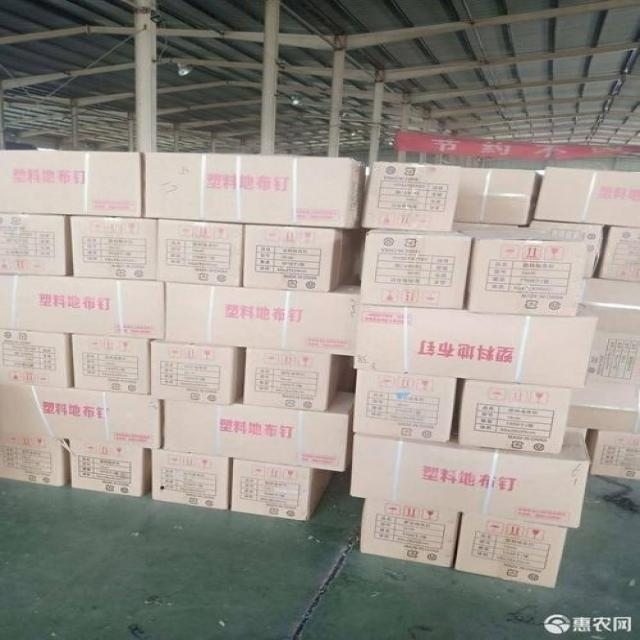box: (351, 410, 591, 530), (353, 302, 598, 389), (145, 152, 366, 229), (161, 390, 355, 471), (164, 282, 360, 356), (457, 225, 585, 316), (0, 274, 164, 340), (0, 382, 161, 449), (0, 151, 143, 218), (361, 227, 472, 309), (454, 512, 568, 588), (458, 379, 571, 454), (243, 225, 360, 293), (571, 304, 640, 413), (355, 369, 457, 442), (361, 161, 462, 233), (360, 499, 461, 568), (535, 165, 640, 227), (242, 349, 346, 411), (230, 459, 334, 520), (155, 219, 243, 286), (151, 341, 243, 404), (70, 216, 157, 280), (454, 167, 543, 225), (151, 450, 232, 510), (69, 439, 151, 497), (74, 334, 151, 395), (0, 212, 73, 276), (0, 328, 73, 389), (531, 220, 604, 277), (0, 430, 69, 486), (585, 428, 639, 479), (598, 226, 640, 282), (567, 406, 637, 439), (581, 275, 640, 307)
